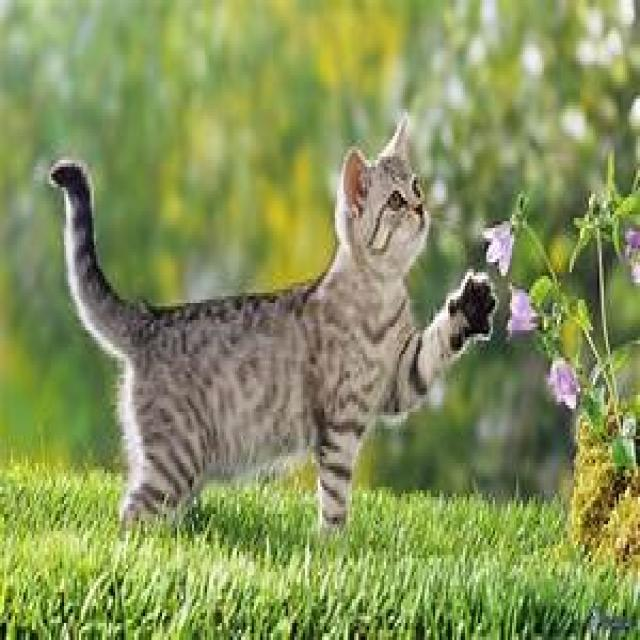cat: (47, 112, 497, 534)
